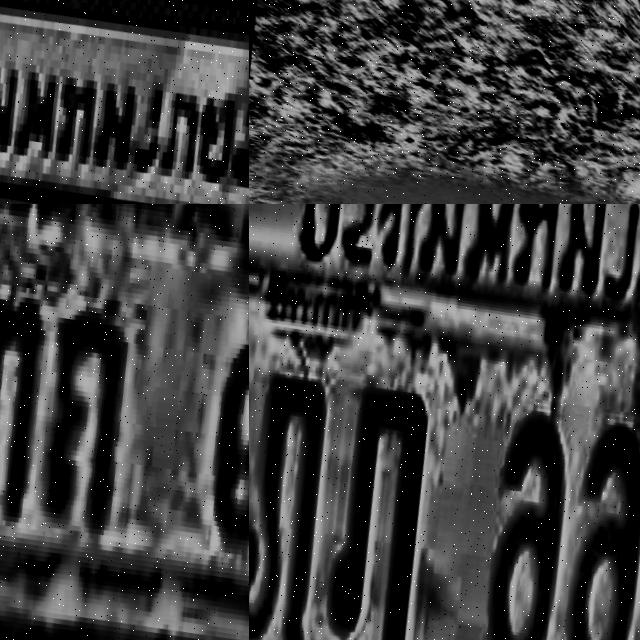license-plate: (249, 204, 640, 640), (0, 204, 249, 640), (0, 0, 249, 204)
